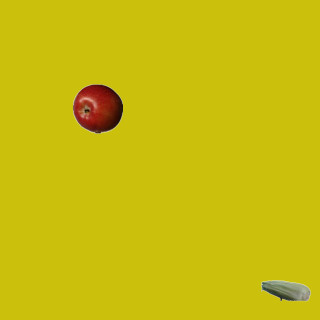Apple Braeburn: (72, 83, 122, 133)
Corn Husk: (260, 265, 310, 315)
